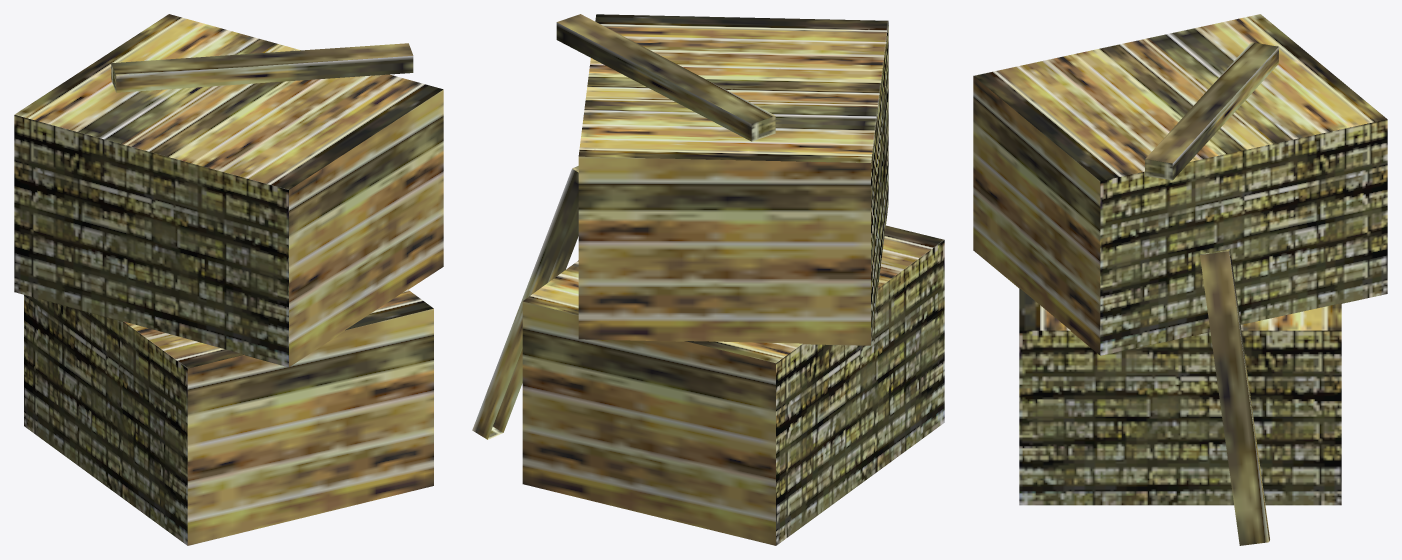
The model's file is Environment - Prop - Rail Tie - PMRailTie.glb.
3 renders of one model, left to right at view 1: azimuth 30°, elevation 25°; view 2: azimuth 150°, elevation 25°; view 3: azimuth 270°, elevation 25°, orthographic. The views are drawn at different scales.
Visible parts, largest first — view 1: PMRAILTIE; view 2: PMRAILTIE; view 3: PMRAILTIE.
Boxes of the visible parts, bbox=[...] form: PMRAILTIE: bbox=[14, 14, 443, 545]; PMRAILTIE: bbox=[472, 14, 944, 545]; PMRAILTIE: bbox=[973, 14, 1387, 545].
Bounding box in the file's own units: 21.04 × 19.83 × 20.03.
1 material, 1 textured.
